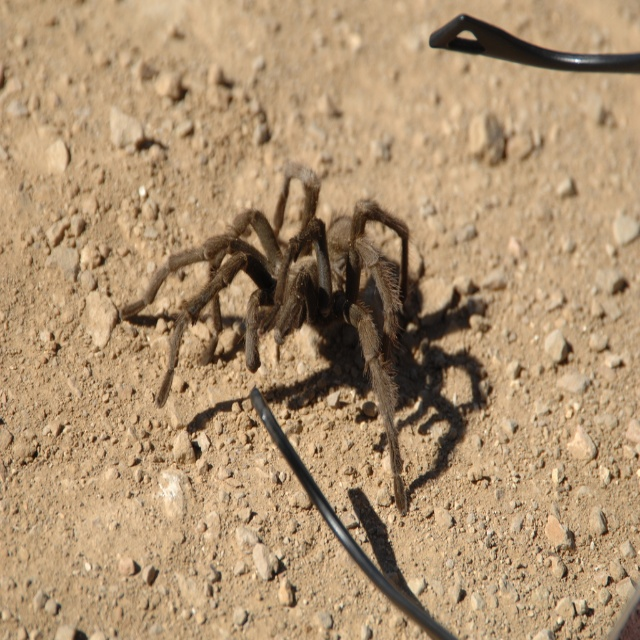Spider: (120, 161, 412, 516)
